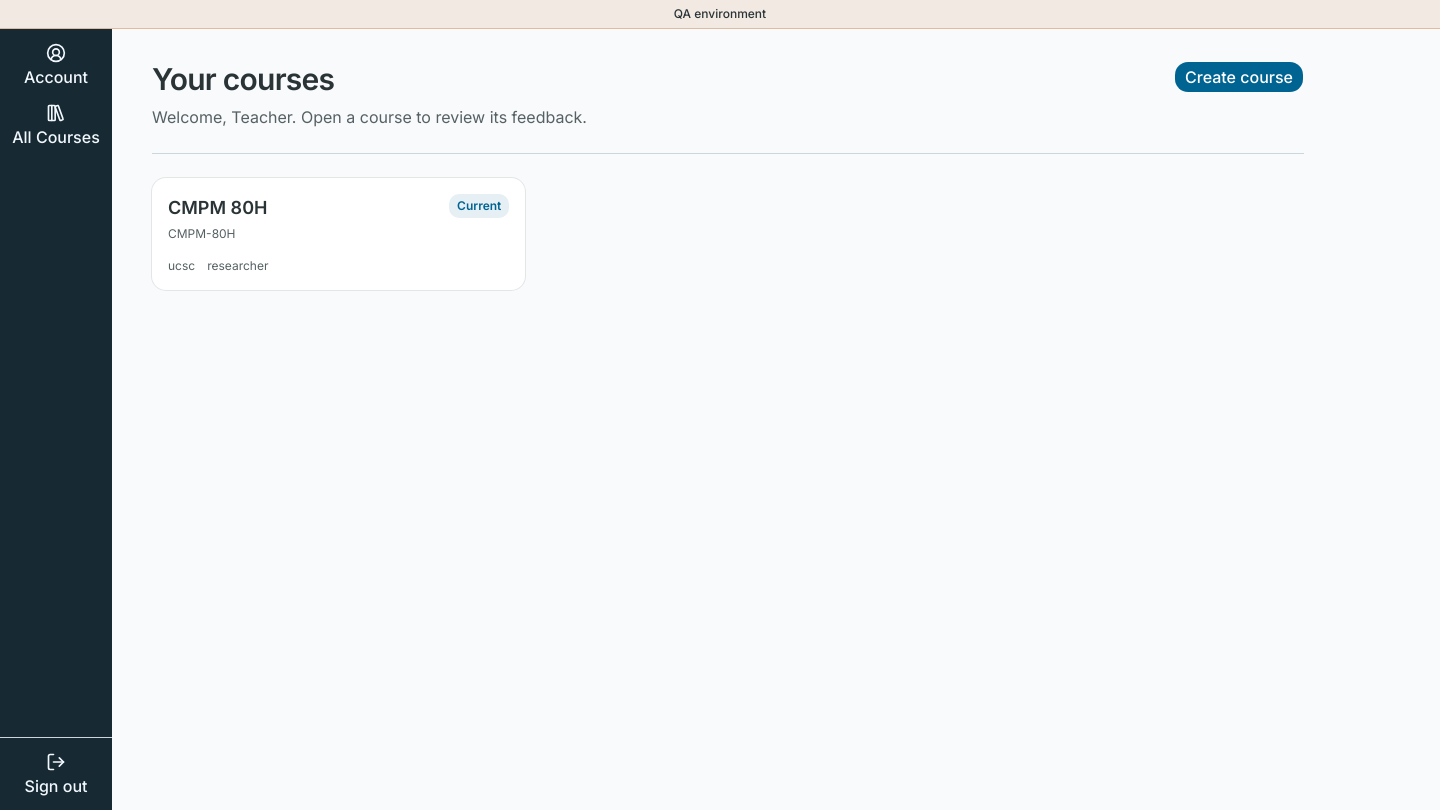
Test: keeps course context and offers retry if server sign-out fails
Expected: the heading "Your courses" is shown, 152,61 -> 334,97
Click the button "Sign out" at coordinates (56, 774), box 8,746 -> 104,802
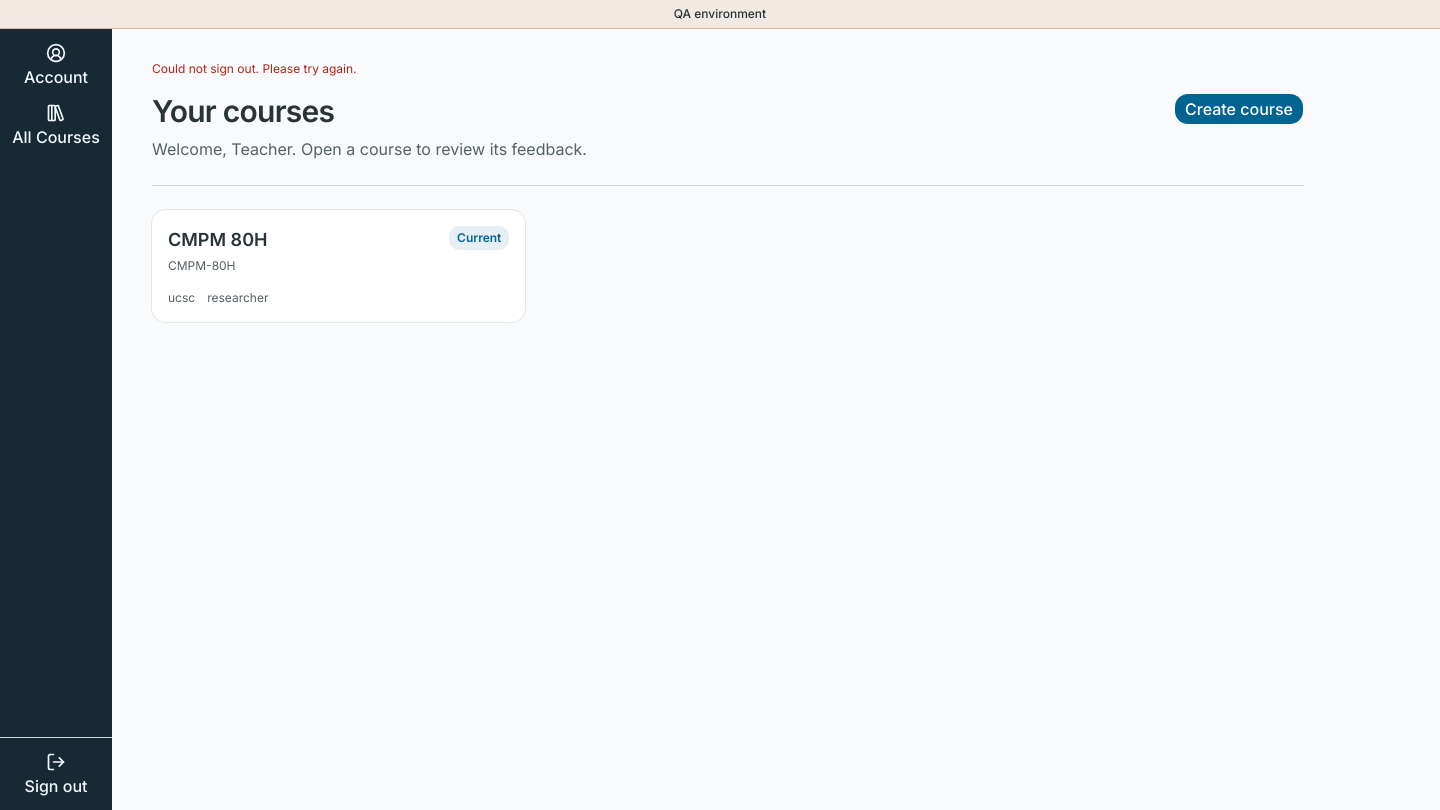
Result: the message shows "Could not sign out" at 152,61 -> 357,76
